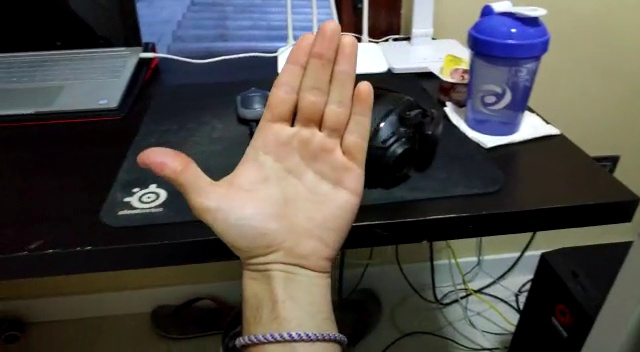Palm: (136, 19, 377, 269)
